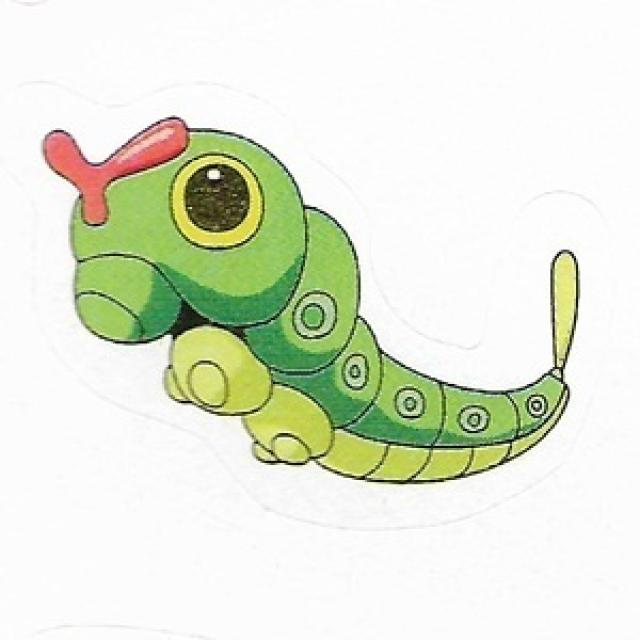Caterpie: (93, 146, 572, 449)
